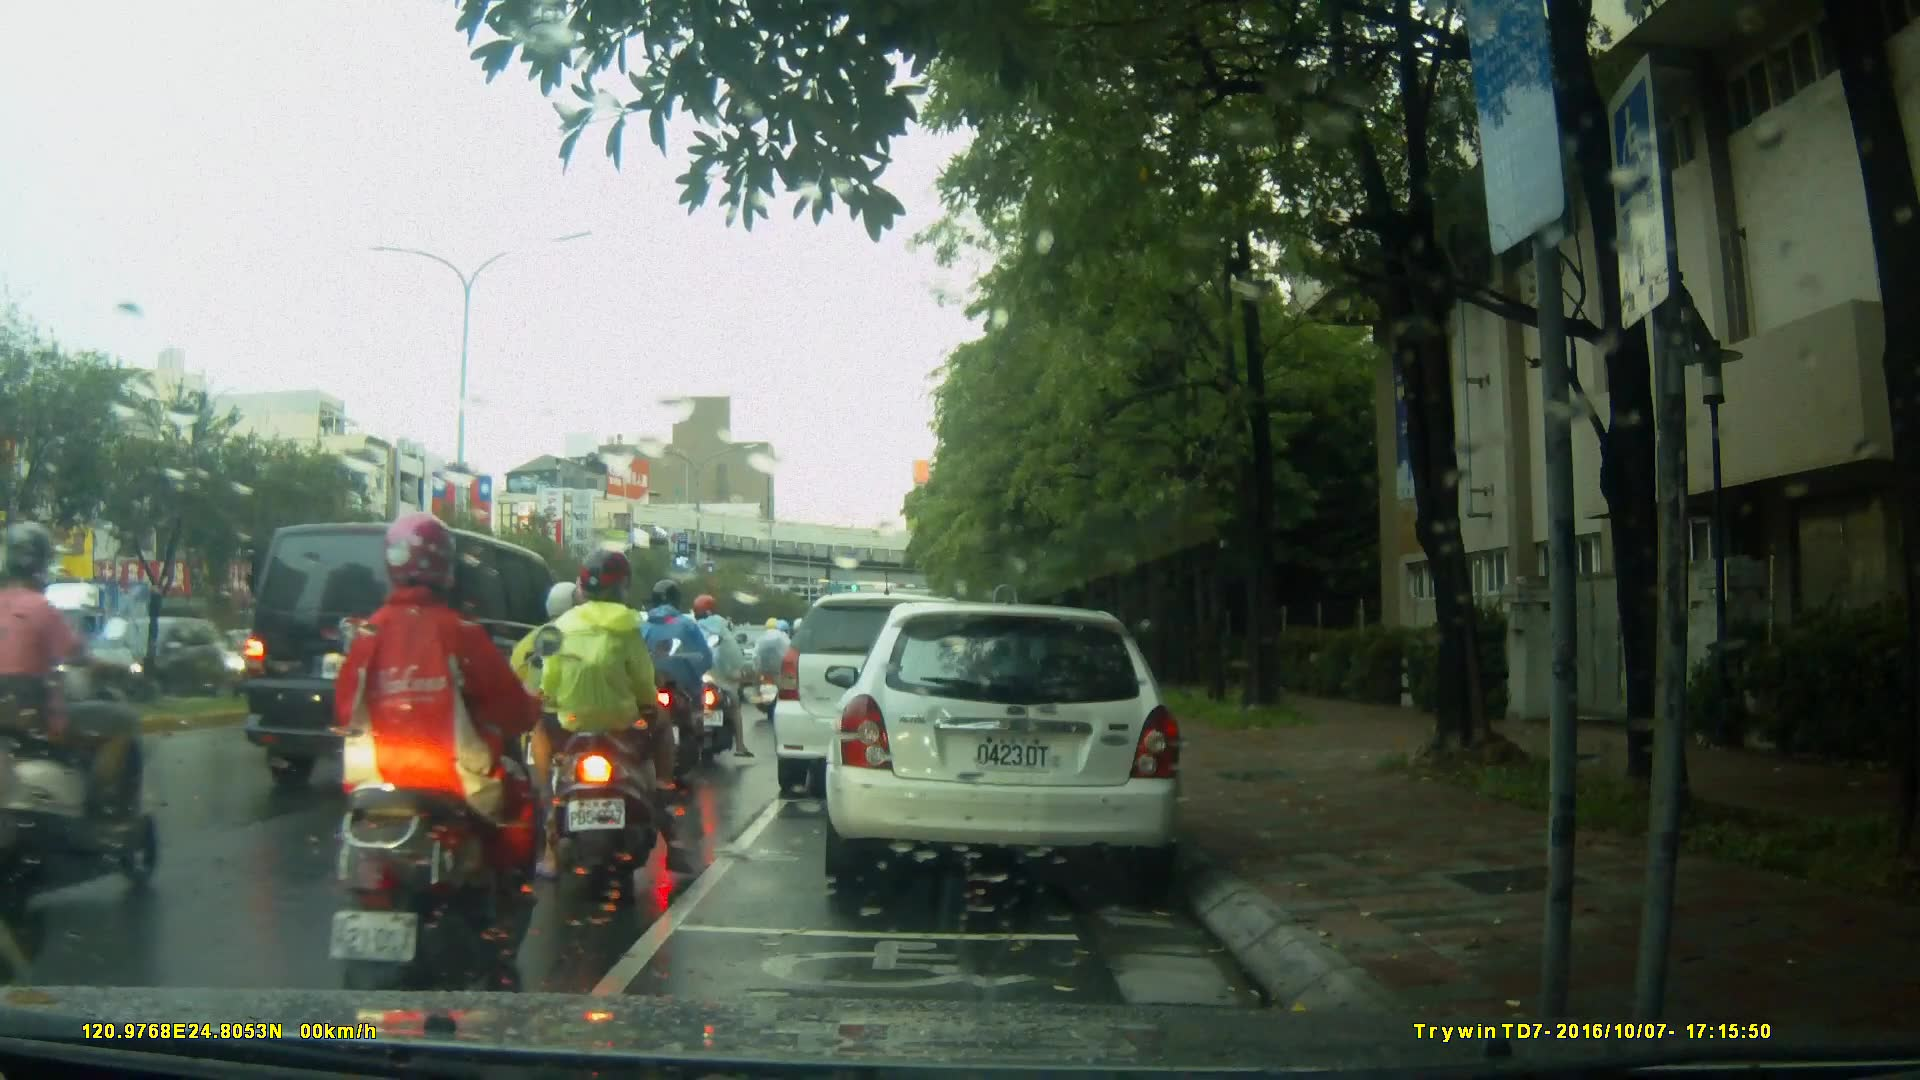rider: (323, 514, 560, 1012), (4, 517, 173, 899), (524, 547, 688, 897), (528, 586, 632, 855), (631, 582, 728, 788), (683, 594, 751, 762), (748, 612, 795, 717)
vehicle: (229, 520, 610, 800), (822, 604, 1188, 883), (774, 595, 995, 802), (531, 608, 735, 750), (24, 613, 232, 709)
